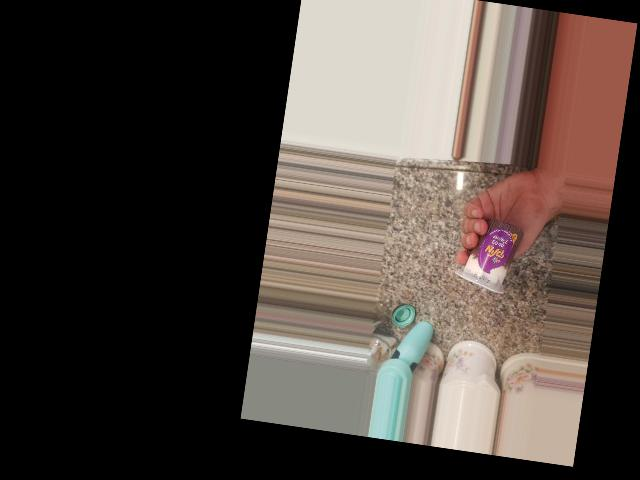milky: (369, 231, 457, 307)
